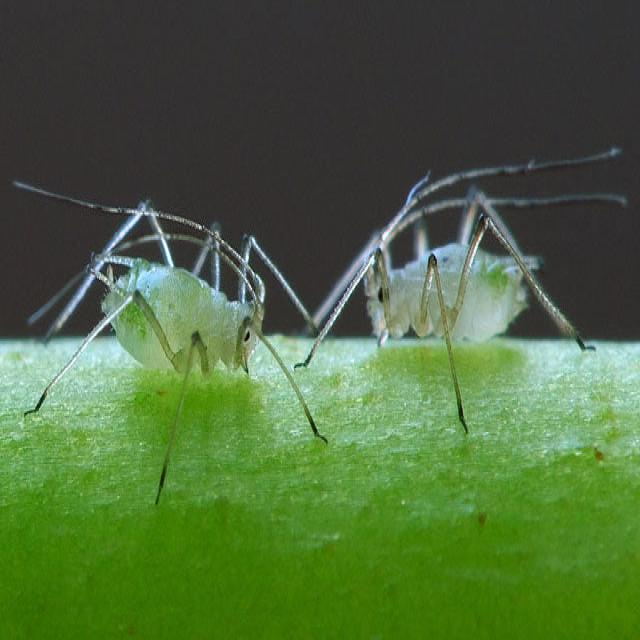Aphid-Grown-: (49, 182, 298, 454), (331, 159, 605, 373)
